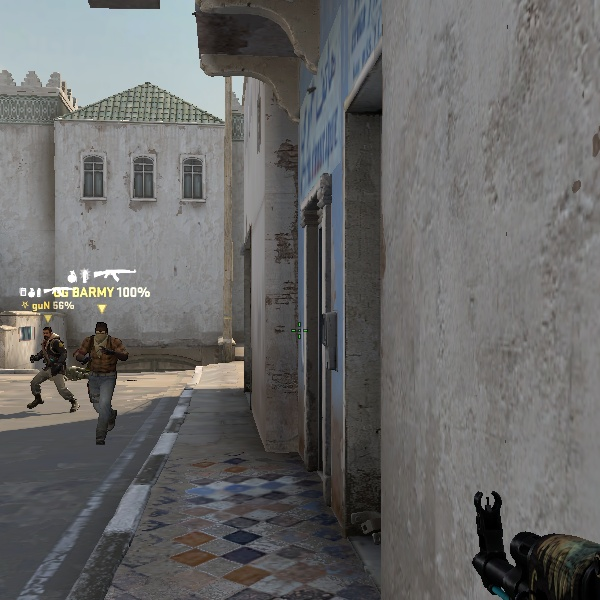t_body: (21, 324, 74, 412)
